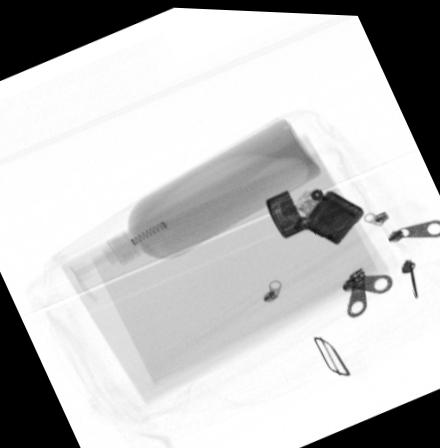Lighter: (264, 183, 364, 242)
